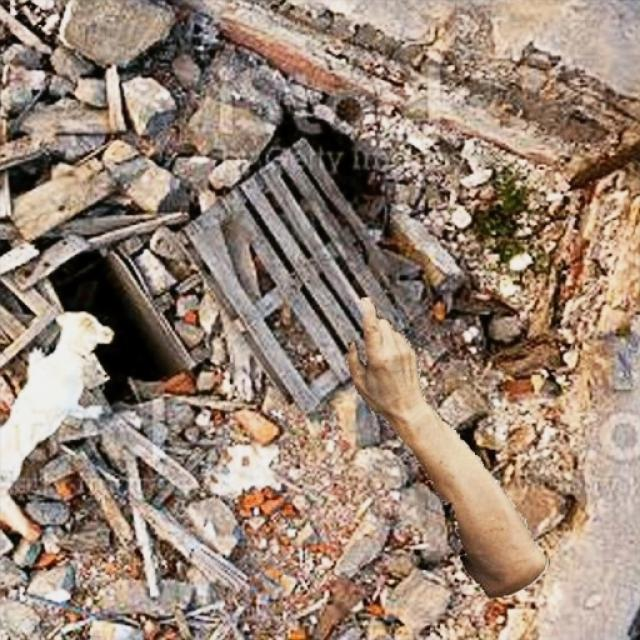Person in Rubble: (346, 298, 549, 596)
